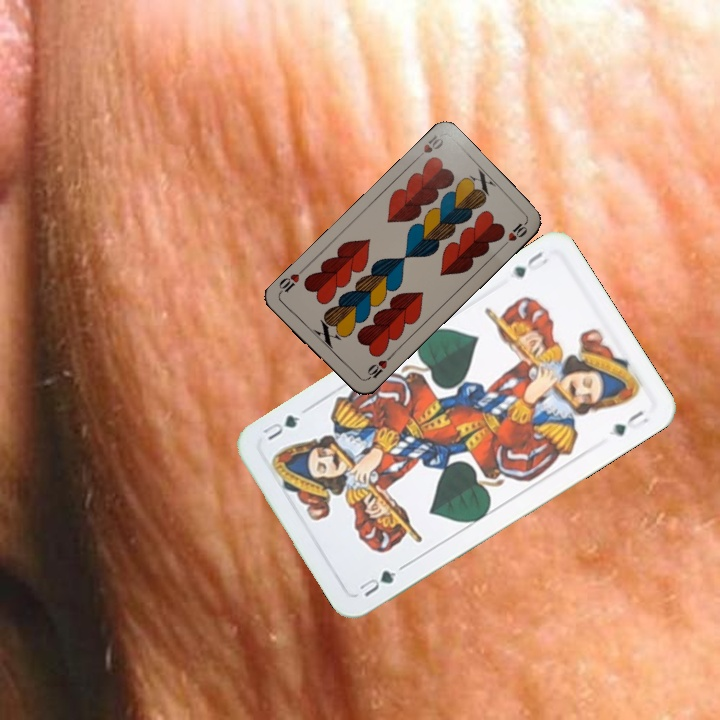GU: (355, 566, 399, 600), (508, 247, 552, 281)
H10: (411, 130, 446, 163), (361, 351, 394, 383)
